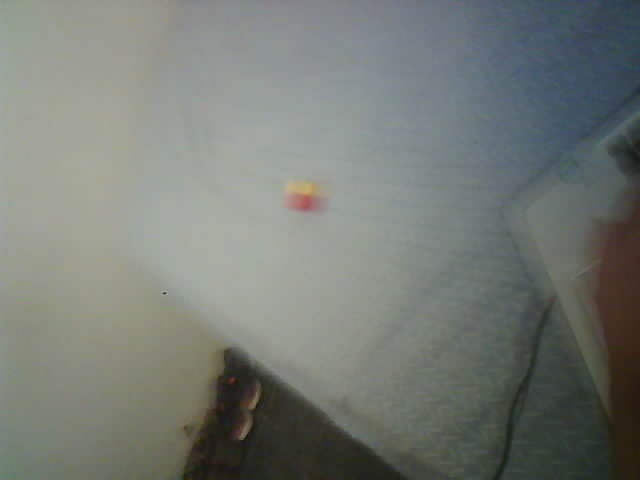lego: (282, 179, 317, 213)
